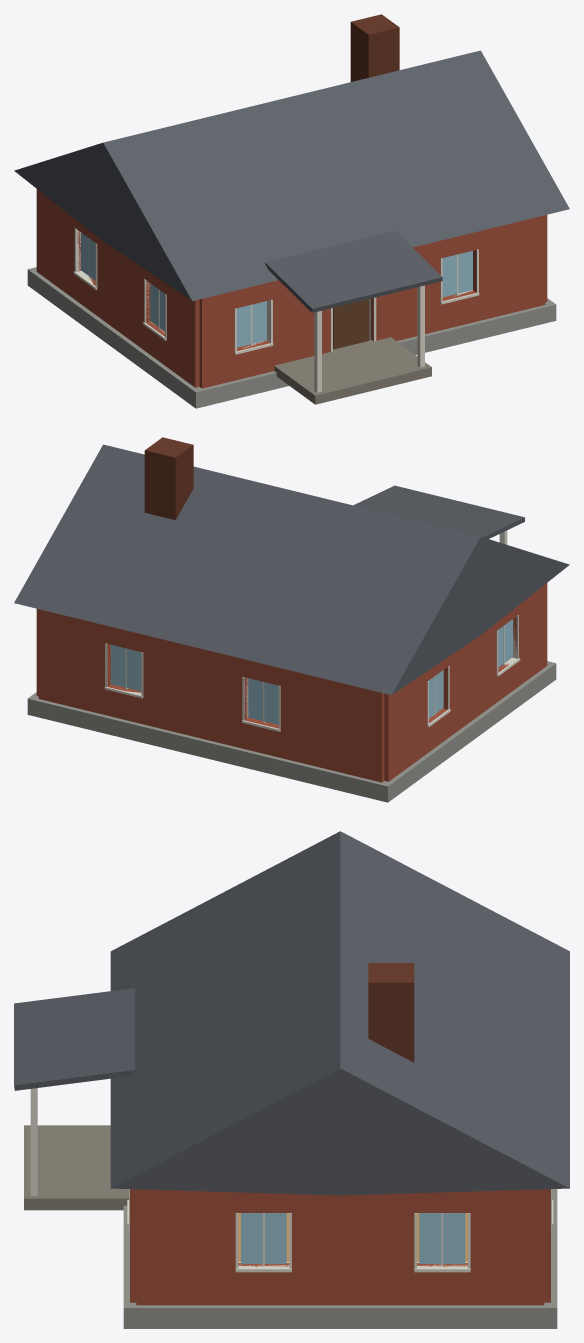
The model's file is GB_TownHouse_01.glb.
3 views of the same model, one above another, from view 1: azimuth 30°, elevation 25°; view 2: azimuth 150°, elevation 25°; view 3: azimuth 270°, elevation 25° (orthographic). The views are drawn at different scales.
Visible parts, largest first — view 1: GB_TownHouse_01; view 2: GB_TownHouse_01; view 3: GB_TownHouse_01.
Boxes of the visible parts, left/top/right/bottom form: GB_TownHouse_01: left=14, top=14, right=569, bottom=408; GB_TownHouse_01: left=14, top=437, right=569, bottom=802; GB_TownHouse_01: left=14, top=831, right=569, bottom=1328.
Size of the model in its own units: 11 by 6.65 by 10.9.
Materials: 1 (1 with a texture image).
